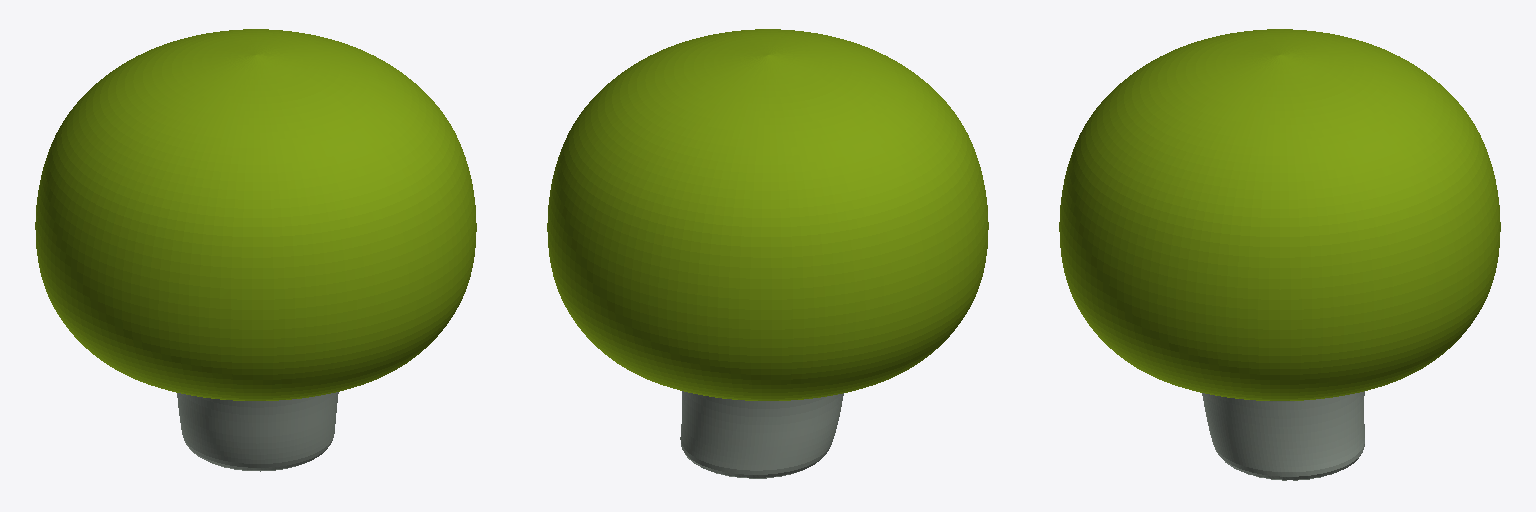
Rendered from Mushroom.obj.
3 views of the same model, side by side, from view 1: azimuth 30°, elevation 25°; view 2: azimuth 150°, elevation 25°; view 3: azimuth 270°, elevation 25° (orthographic).
Parts seen in each view (by area): view 1: Sphere; view 2: Sphere; view 3: Sphere.
Boxes of the visible parts, <box> form: Sphere: <box>35,29,476,471</box>; Sphere: <box>547,29,988,478</box>; Sphere: <box>1059,29,1500,480</box>.
Bounding box in the file's own units: 1.98 × 1.99 × 1.98.